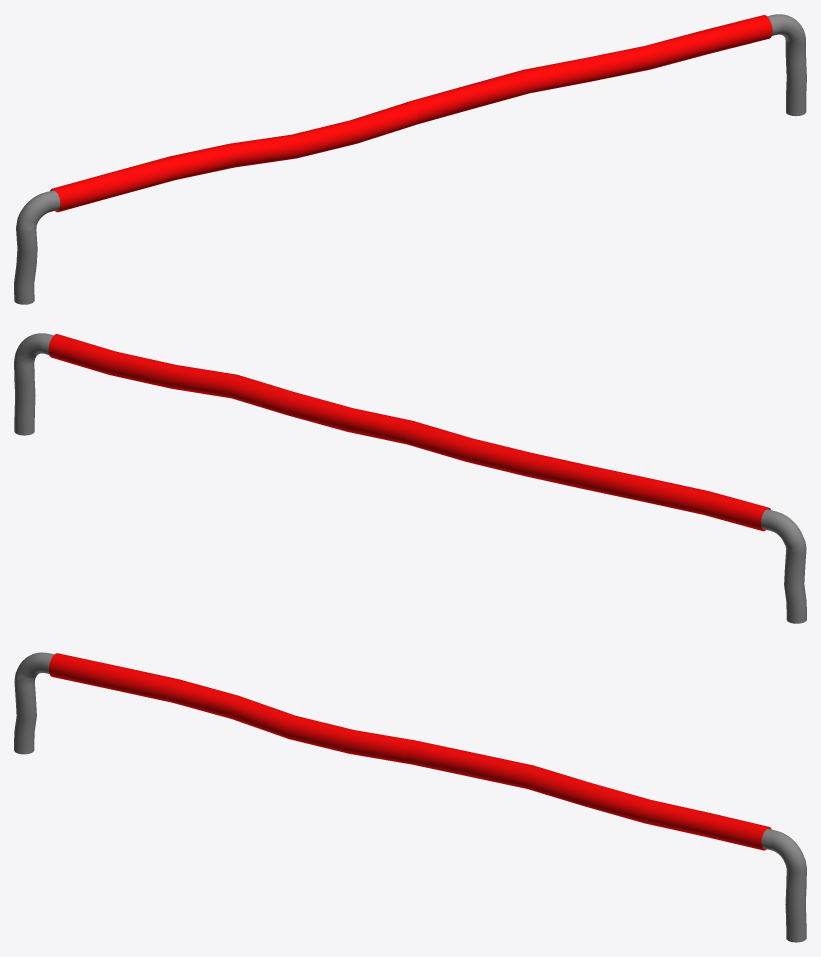
The model's file is cable_rojo_32.fbx.
3 renders of one model, top to bottom at view 1: azimuth 30°, elevation 25°; view 2: azimuth 150°, elevation 25°; view 3: azimuth 330°, elevation 25°, orthographic.
Visible parts, largest first — view 1: Cilindro_rojo_ext_32, Cilindro_rojo_int_32; view 2: Cilindro_rojo_ext_32, Cilindro_rojo_int_32; view 3: Cilindro_rojo_ext_32, Cilindro_rojo_int_32.
Boxes of the visible parts, x1,y1,x2,y2 form: Cilindro_rojo_ext_32: [50, 15, 772, 212]; Cilindro_rojo_int_32: [14, 14, 806, 304]; Cilindro_rojo_ext_32: [48, 334, 770, 531]; Cilindro_rojo_int_32: [14, 333, 806, 623]; Cilindro_rojo_ext_32: [49, 653, 771, 850]; Cilindro_rojo_int_32: [14, 652, 806, 942].
Bounding box in the file's own units: 358 × 45.66 × 12.3.
